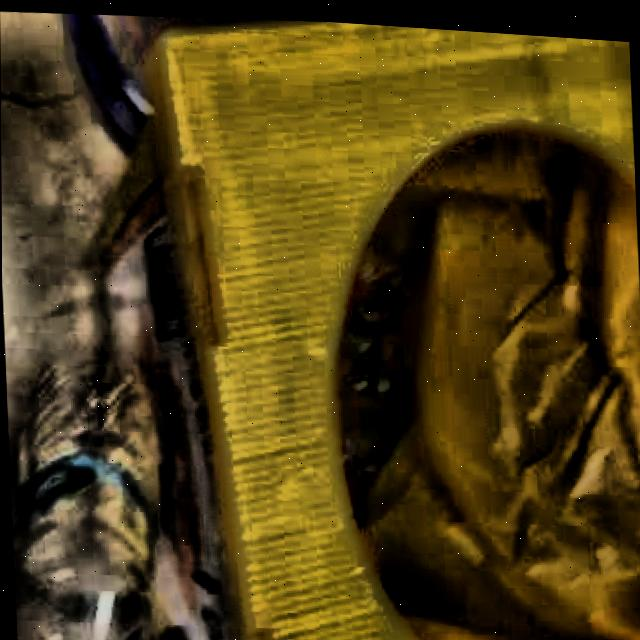plastic: (10, 344, 157, 640)
